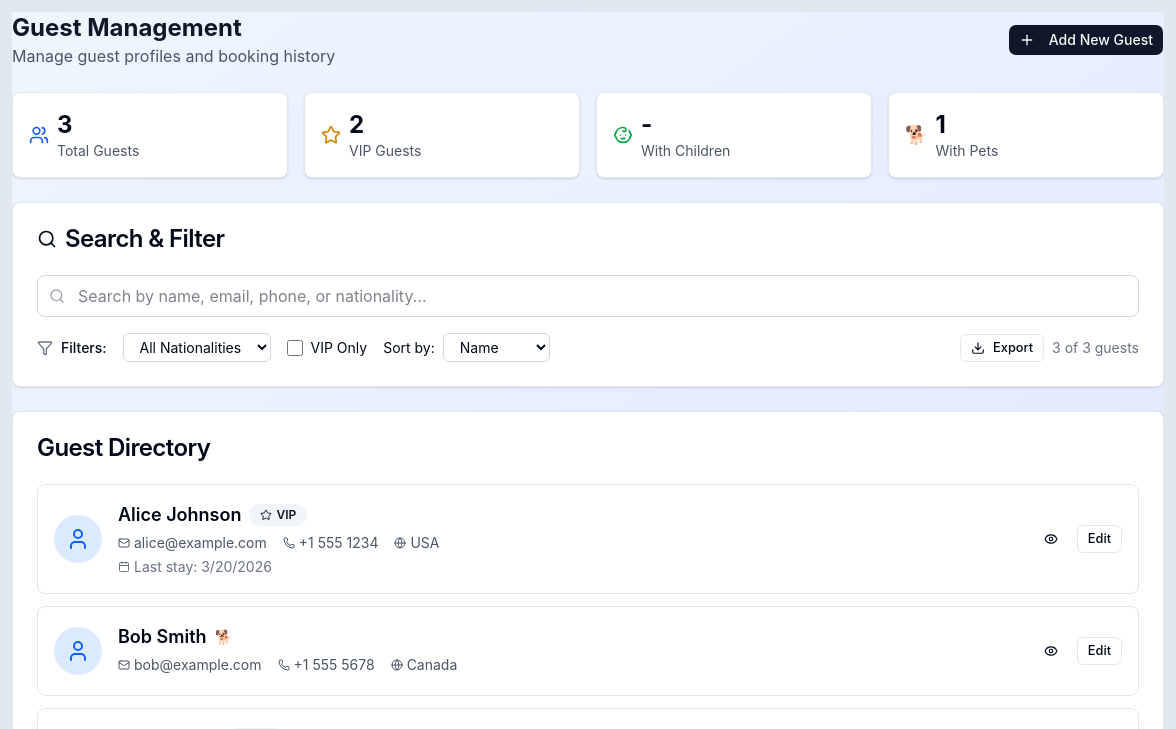
GuestManagementPage › search filter › filters guests case-insensitively
The image size is (1176, 729).
Type "bob" into the field with placeholder "Search by name, email, phone, or nationality..." at (588, 296), box [37,275,1139,317]
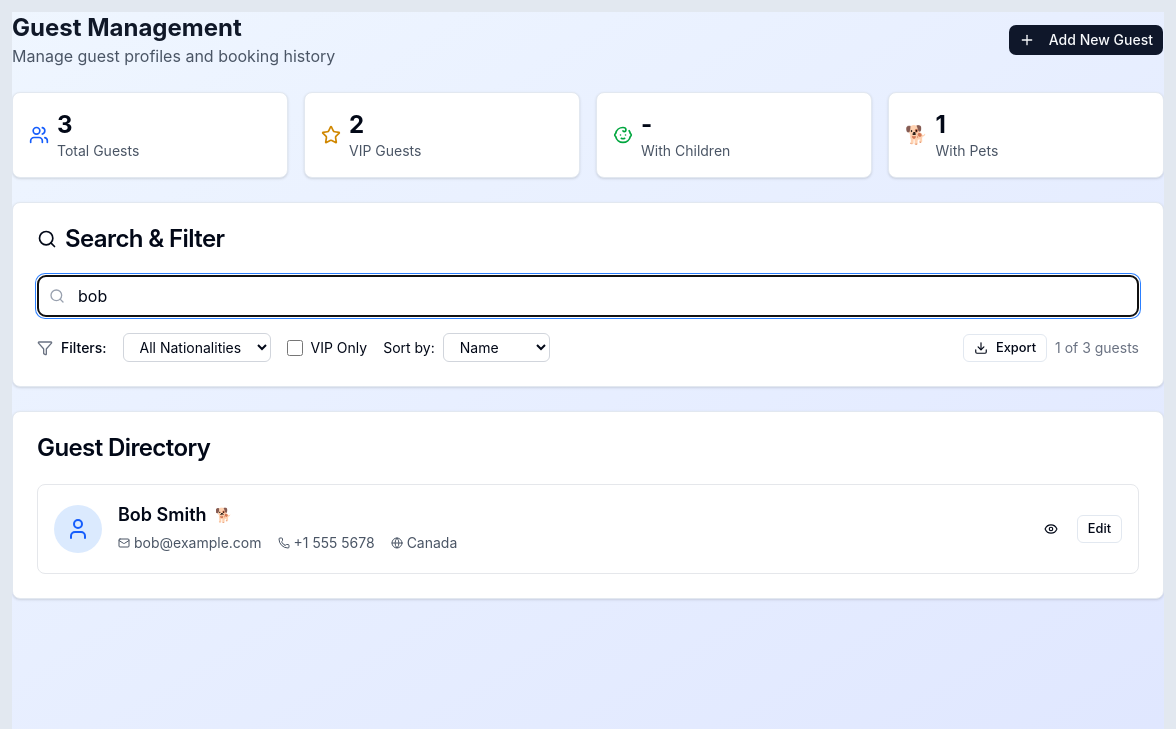
Check: the heading "Bob Smith" is shown, box [118,501,207,529]
Check: the heading "Alice Johnson" is gone
